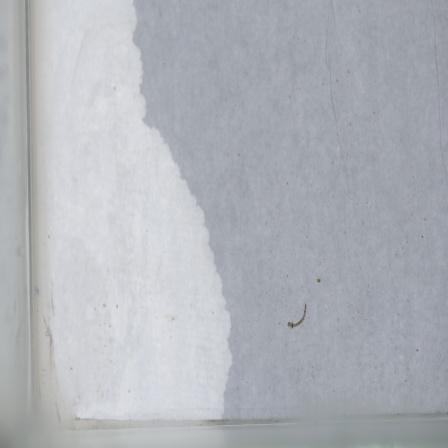Jentik-Nyamuk: (285, 300, 310, 333)
